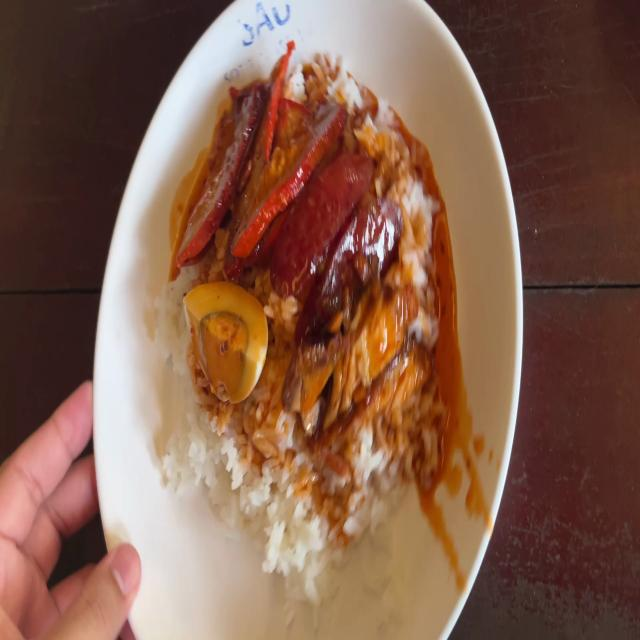01boiled_egg: (183, 285, 266, 394)
01chainese_sausage: (274, 159, 408, 315)
01crispy_pork: (298, 290, 425, 444)
01red_pork: (174, 70, 281, 254), (266, 106, 342, 183)
01red_pork_and_crispy_pork: (159, 62, 453, 599)
01rice: (171, 407, 294, 553), (290, 445, 397, 566)
